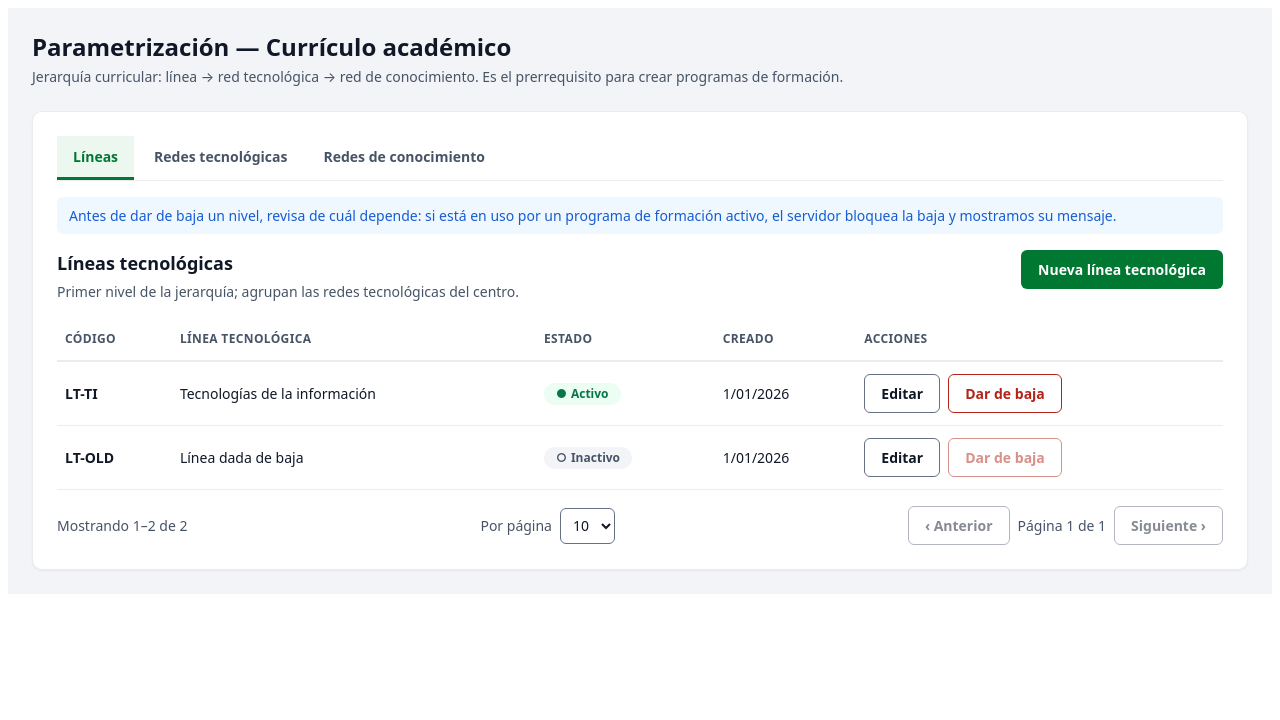
Test: CurriculumSetupPage › E2 + E4: la pestaña de redes tecnológicas muestra la línea de la que depende cada red
Expected: the text "Tecnologías de la información" is shown, [172, 361, 536, 426]
Click the tab "Redes tecnológicas". click: (221, 158)
box: [138, 136, 303, 180]
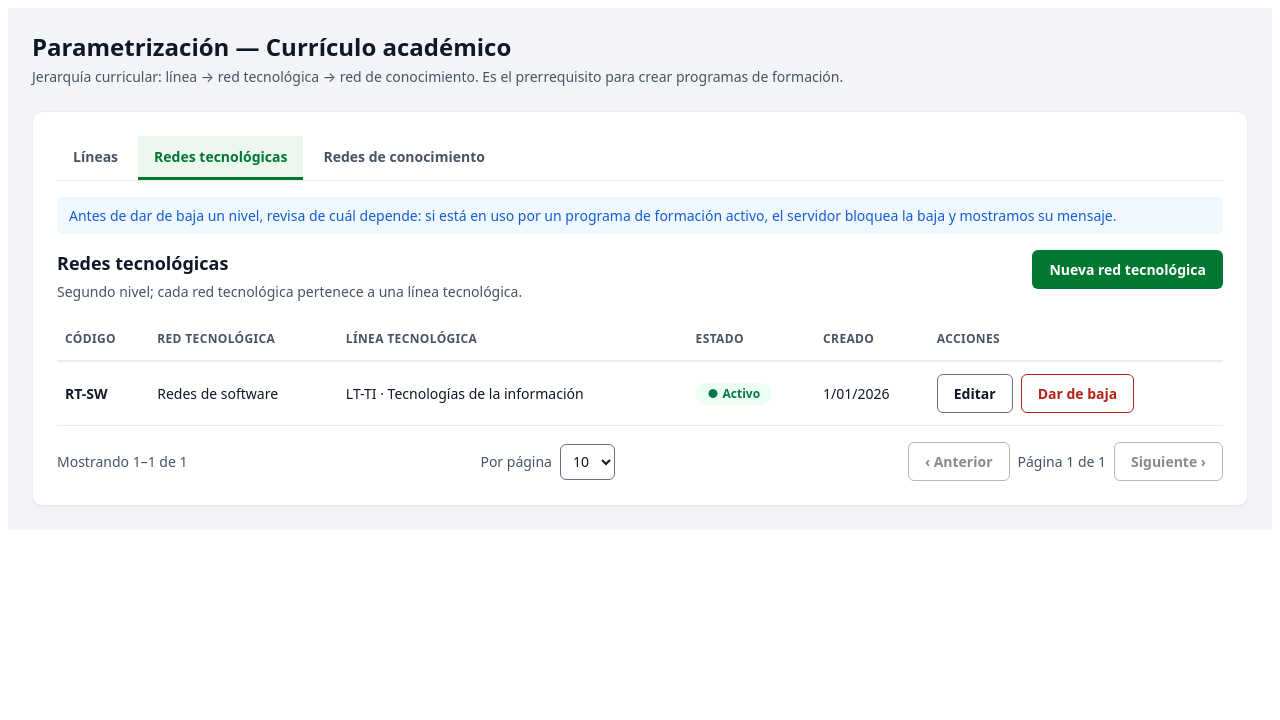
Expected: the text "Redes de software" is shown, [149, 361, 338, 426]
